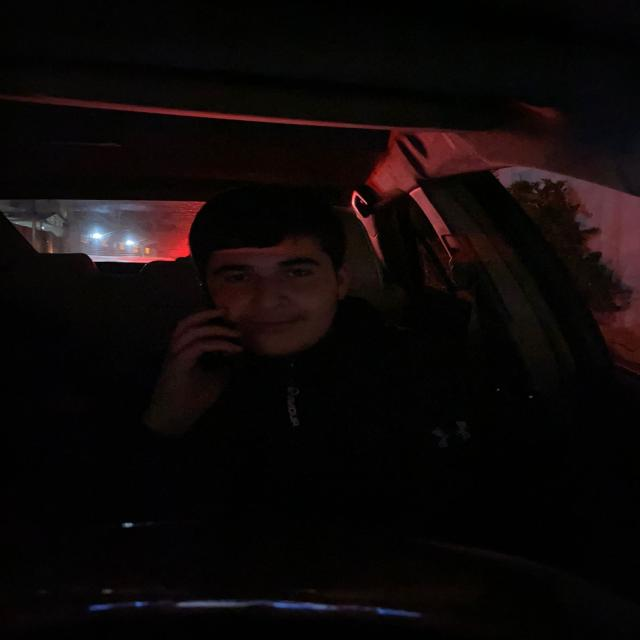phone: (190, 275, 222, 356)
